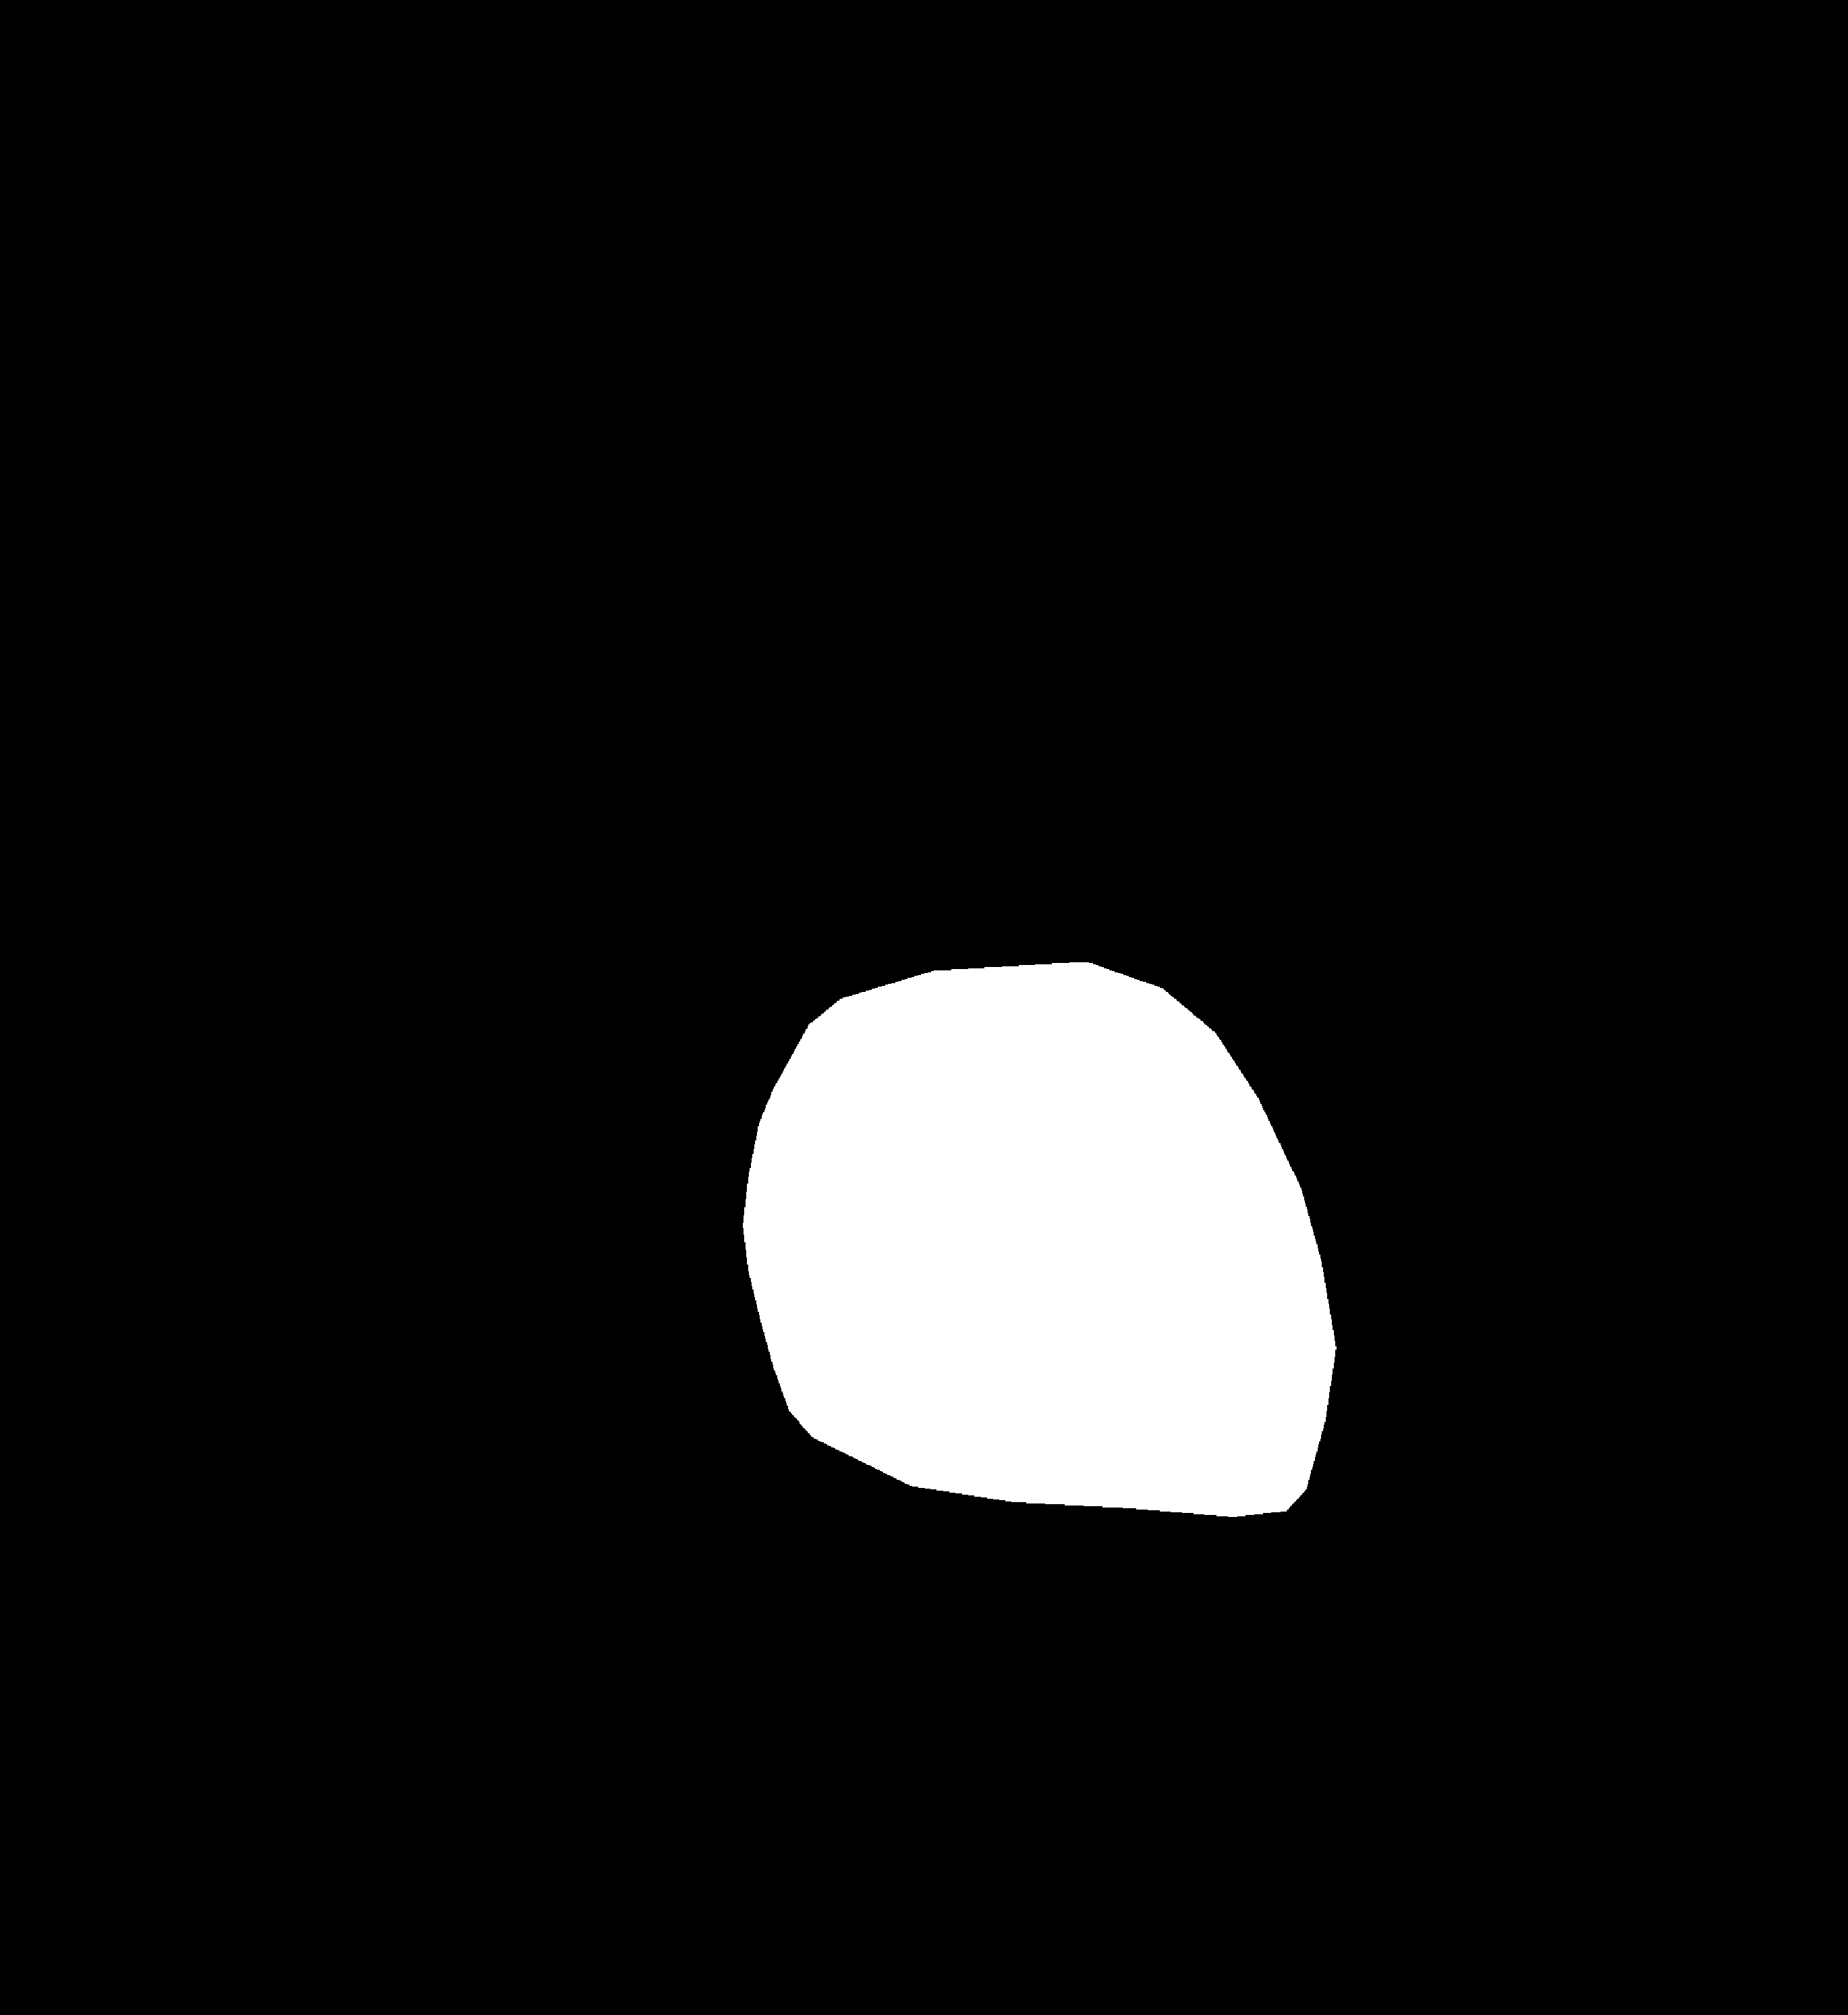heart: (744, 990, 1327, 1587)
left_lung: (212, 344, 935, 1785)
right_lung: (1099, 372, 1632, 1773)
